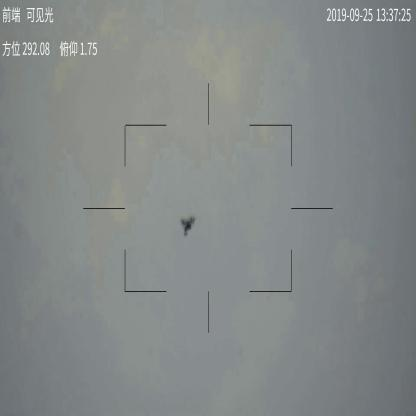uav: (178, 214, 196, 235)
